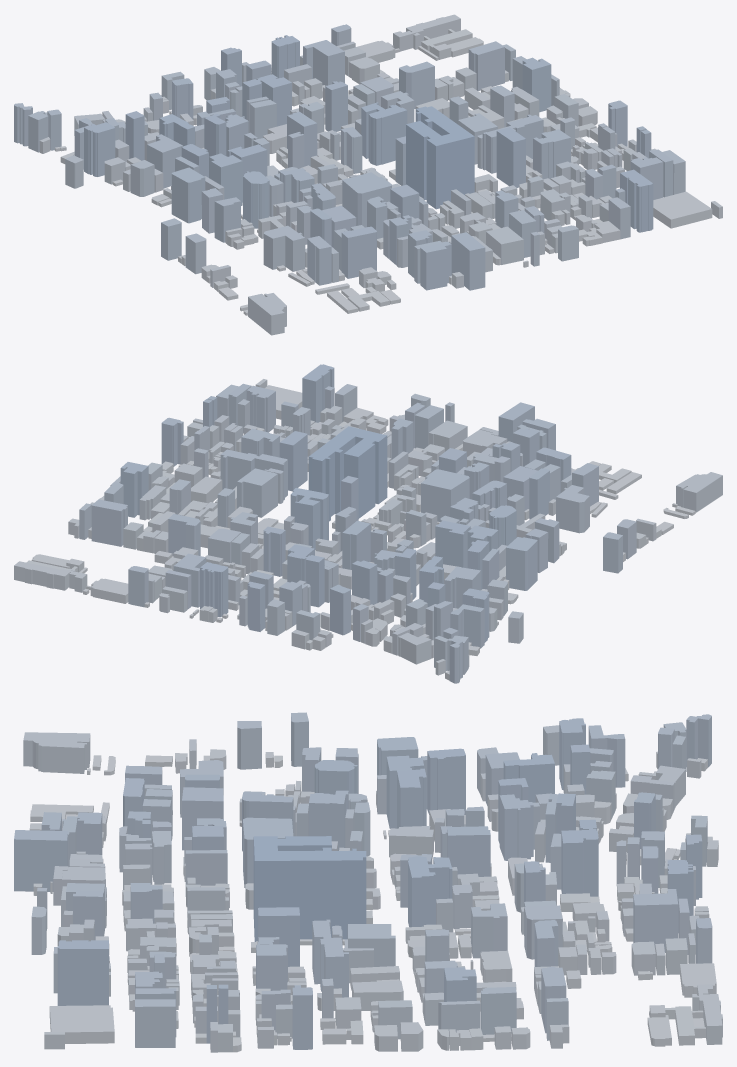
3 views of the same model, one above another, from view 1: azimuth 30°, elevation 25°; view 2: azimuth 150°, elevation 25°; view 3: azimuth 270°, elevation 25° (orthographic). The views are drawn at different scales.
Bounding box in the file's own units: 513 × 66.51 × 520.
